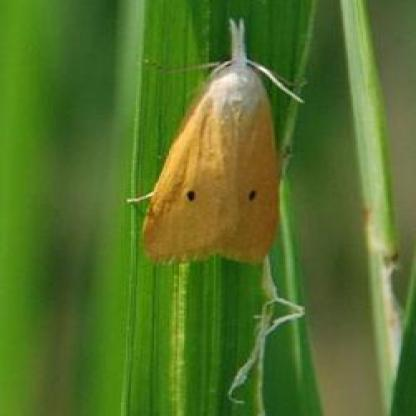stem-borer: (138, 15, 284, 266)
